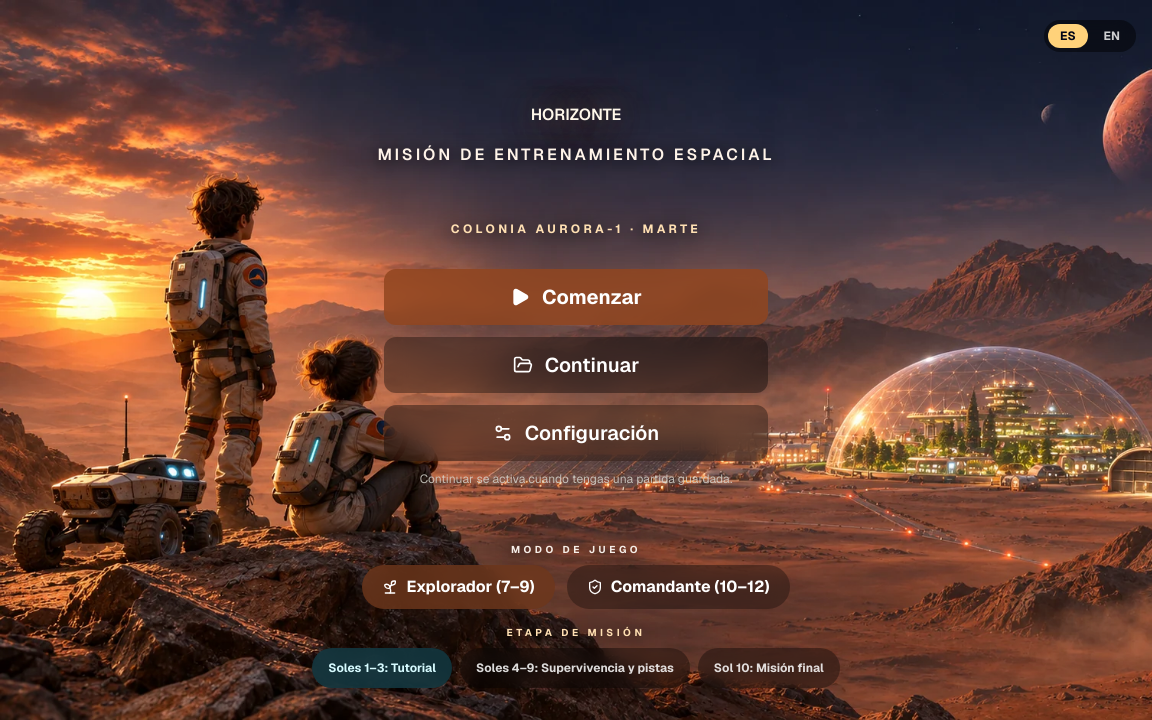
Test: menú principal › Configuración guarda el movimiento reducido
Earlier steps of the test are not shown.
Click the button "Configuración" at (576, 433), box x1=384 y1=405 x2=768 y2=461
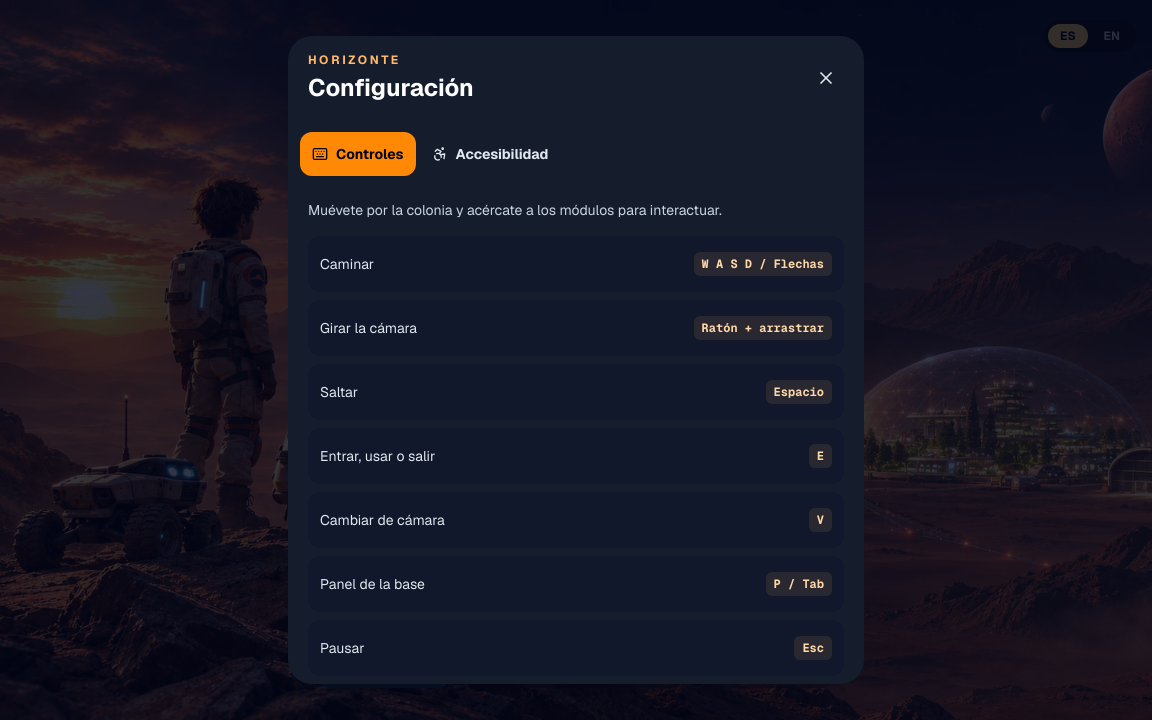
Click the tab "Accesibilidad" at (490, 154), box x1=420 y1=132 x2=560 y2=176
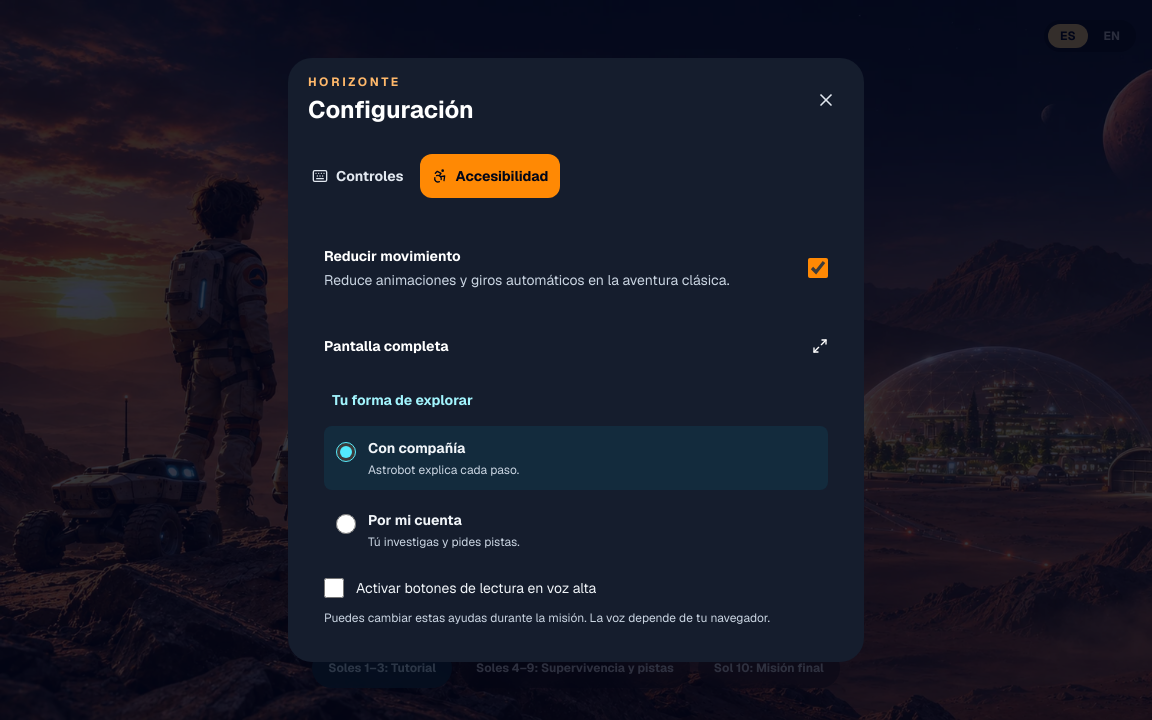
expect the checkbox labelled "Reducir movimiento" is checked: met, box x1=808 y1=258 x2=828 y2=278
